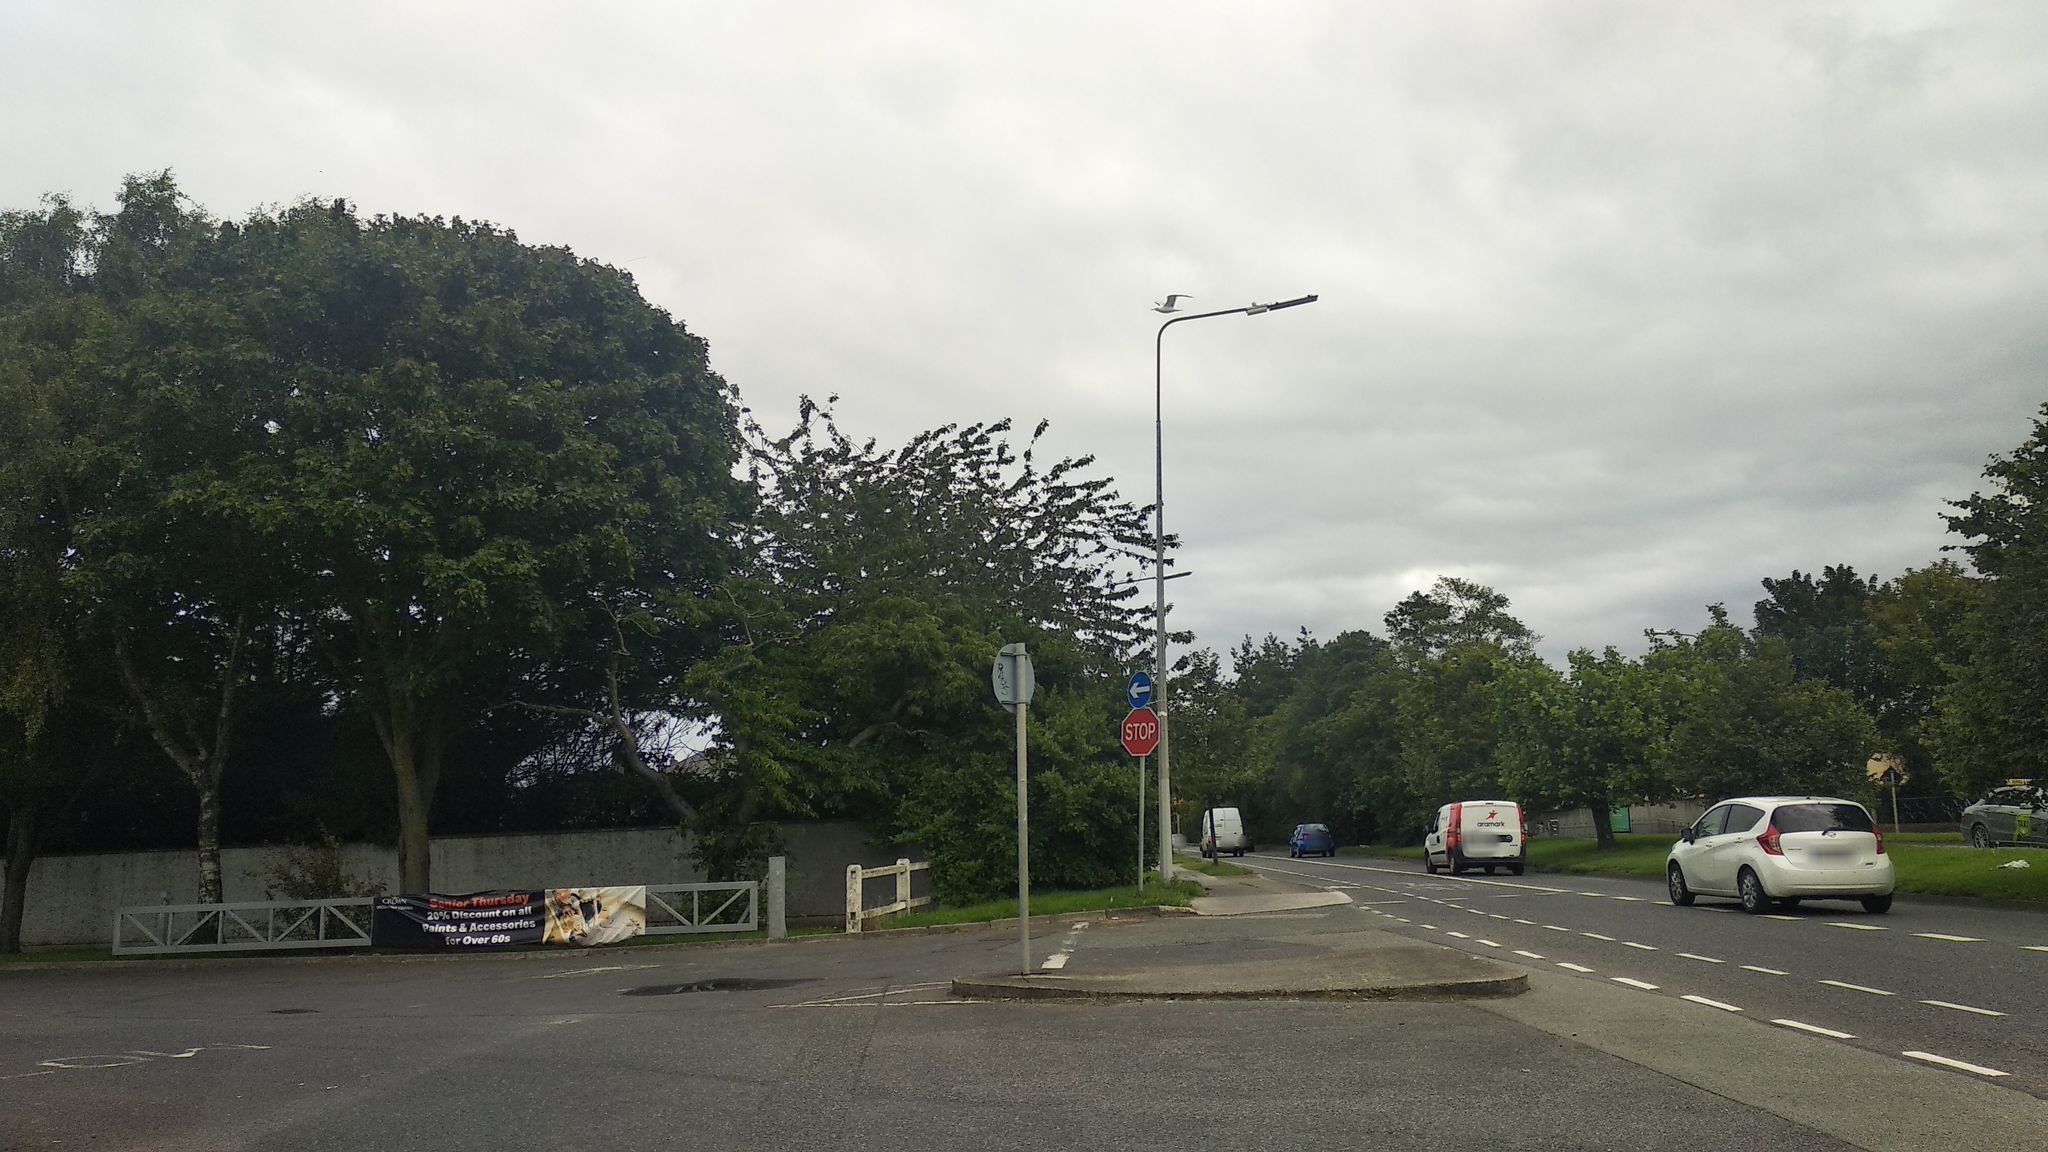vinyl banner: (364, 868, 667, 952)
